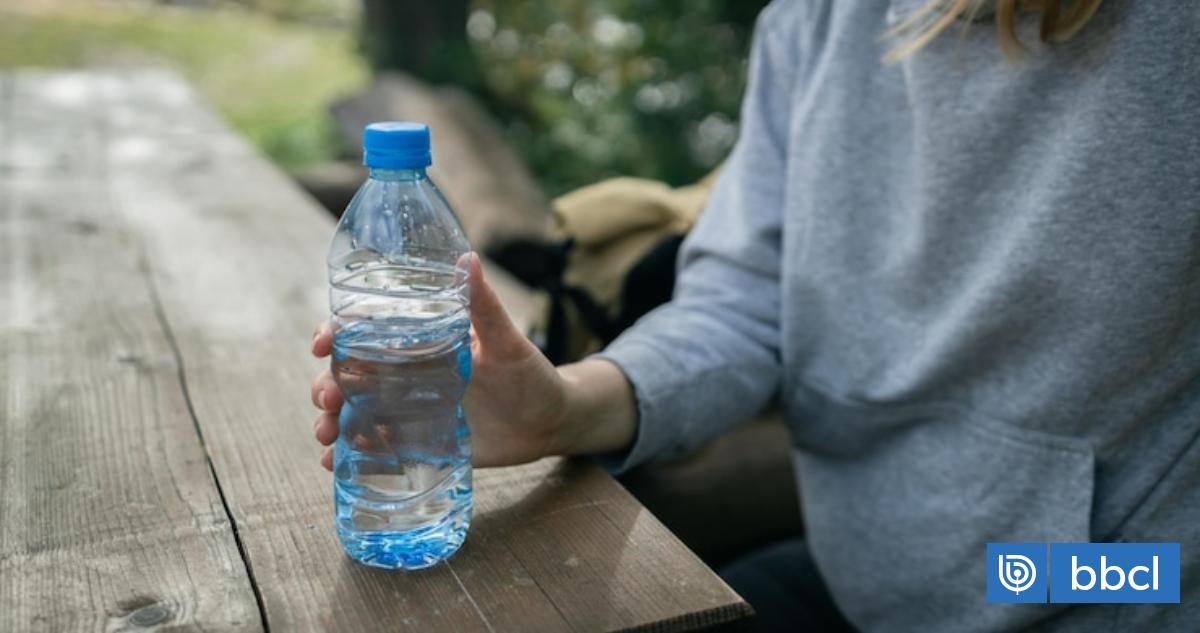paper: (327, 121, 474, 571)
